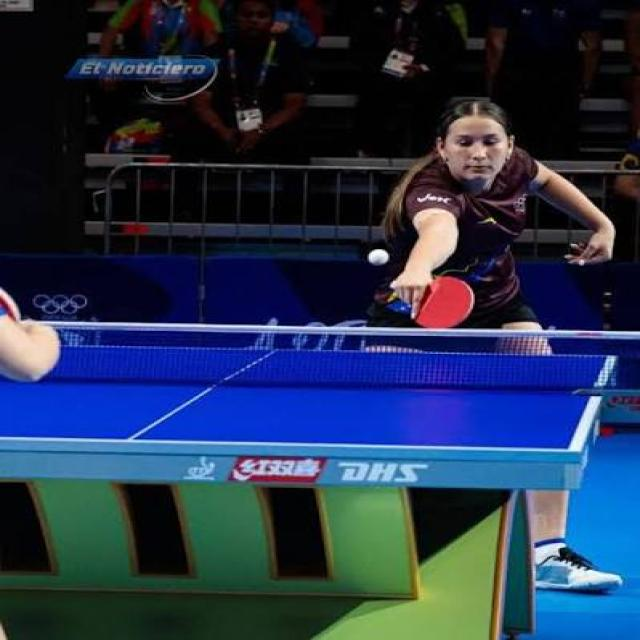TT Net: (0, 318, 638, 399)
TT Racket: (399, 268, 493, 337)
TT Table: (0, 343, 613, 450)
